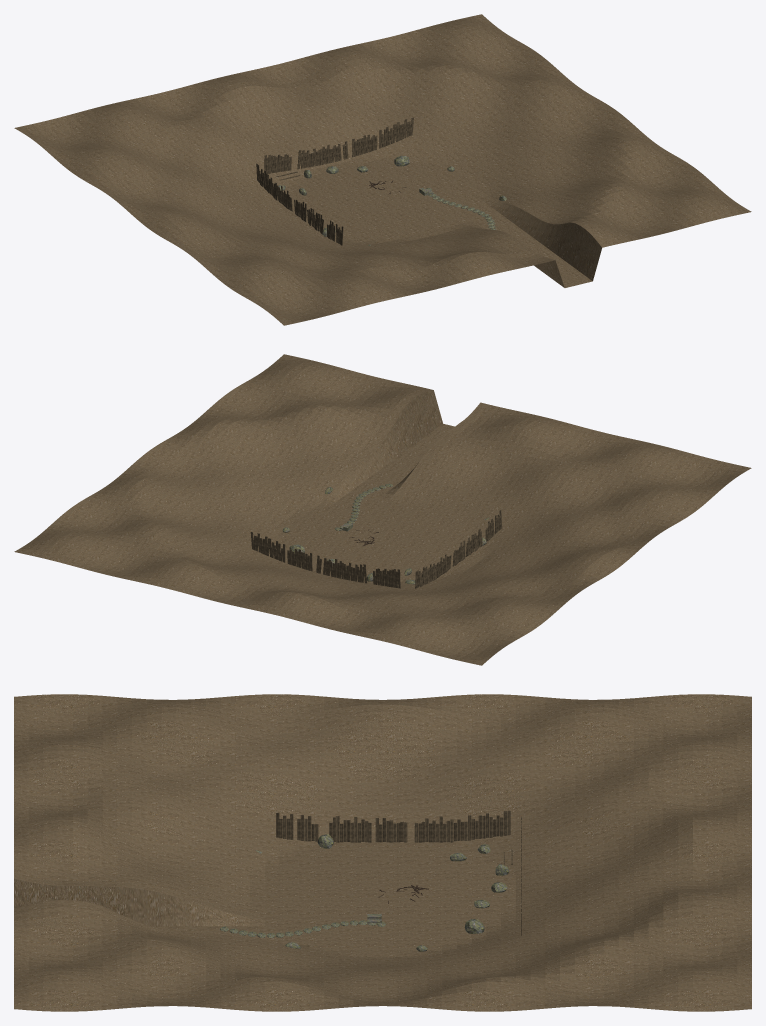
File: garden.glb
3 renders of one model, top to bottom at view 1: azimuth 30°, elevation 25°; view 2: azimuth 150°, elevation 25°; view 3: azimuth 270°, elevation 25°, orthographic. The views are drawn at different scales.
Parts seen in each view (by area): view 1: Garden_earth, Broken garden fence, Stepping stone; view 2: Garden_earth, Broken garden fence, Stepping stone; view 3: Garden_earth, Broken garden fence, Stepping stone.
Part boxes in pixels (x1,y1,x2,y2): Garden_earth: [14, 14, 751, 325]; Broken garden fence: [256, 117, 413, 245]; Stepping stone: [277, 155, 506, 245]; Garden_earth: [14, 354, 751, 665]; Broken garden fence: [250, 510, 502, 588]; Stepping stone: [282, 483, 488, 584]; Garden_earth: [14, 694, 751, 1011]; Broken garden fence: [276, 810, 521, 935]; Stepping stone: [220, 834, 509, 951].
Bounding box in the file's own units: 56 × 4.68 × 56.
4 materials, 4 textured.
